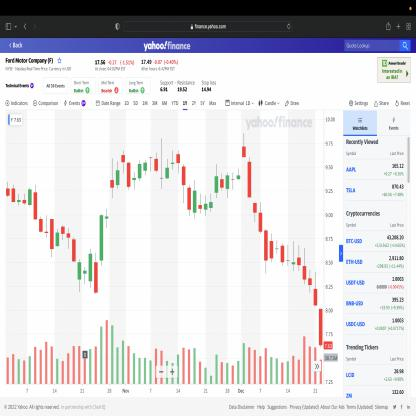Bearish: 3 Black Crows: (247, 155, 264, 236), (176, 147, 192, 221)
Bullish: Kicker: (92, 212, 104, 296)
